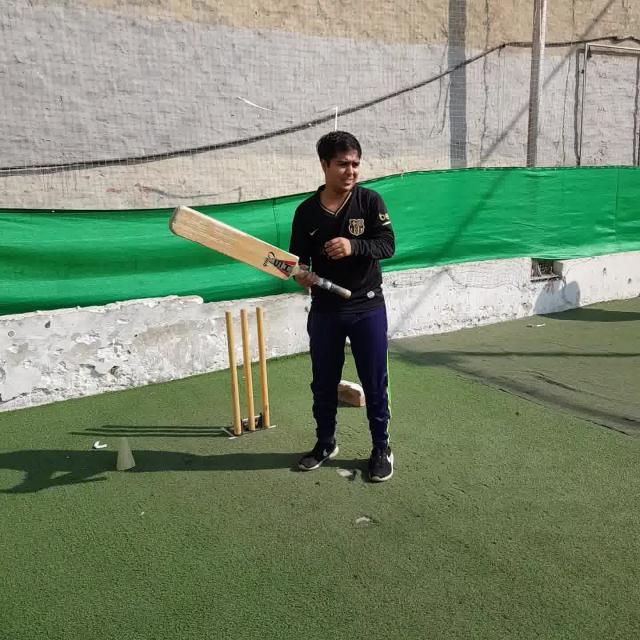bat: (170, 205, 352, 298)
